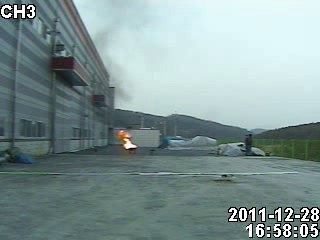fire: (118, 135, 143, 150)
smoke: (104, 31, 157, 108)
